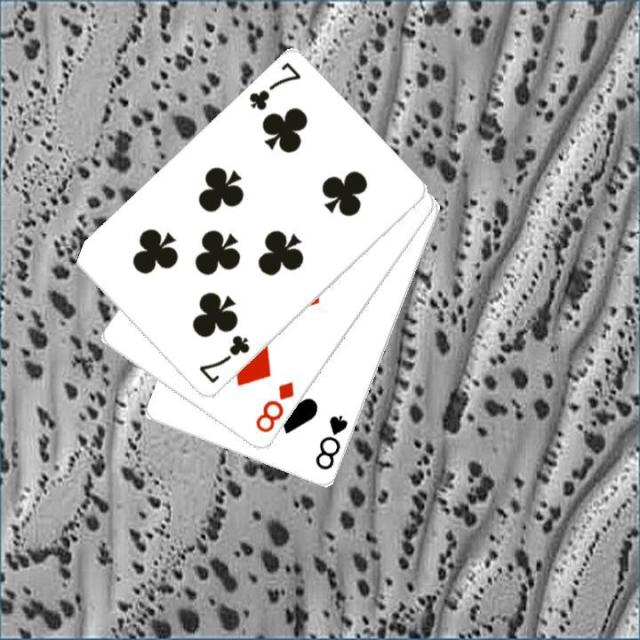7C: (195, 330, 252, 386), (245, 58, 303, 113)
8D: (251, 378, 297, 436)
8S: (311, 411, 350, 473)
